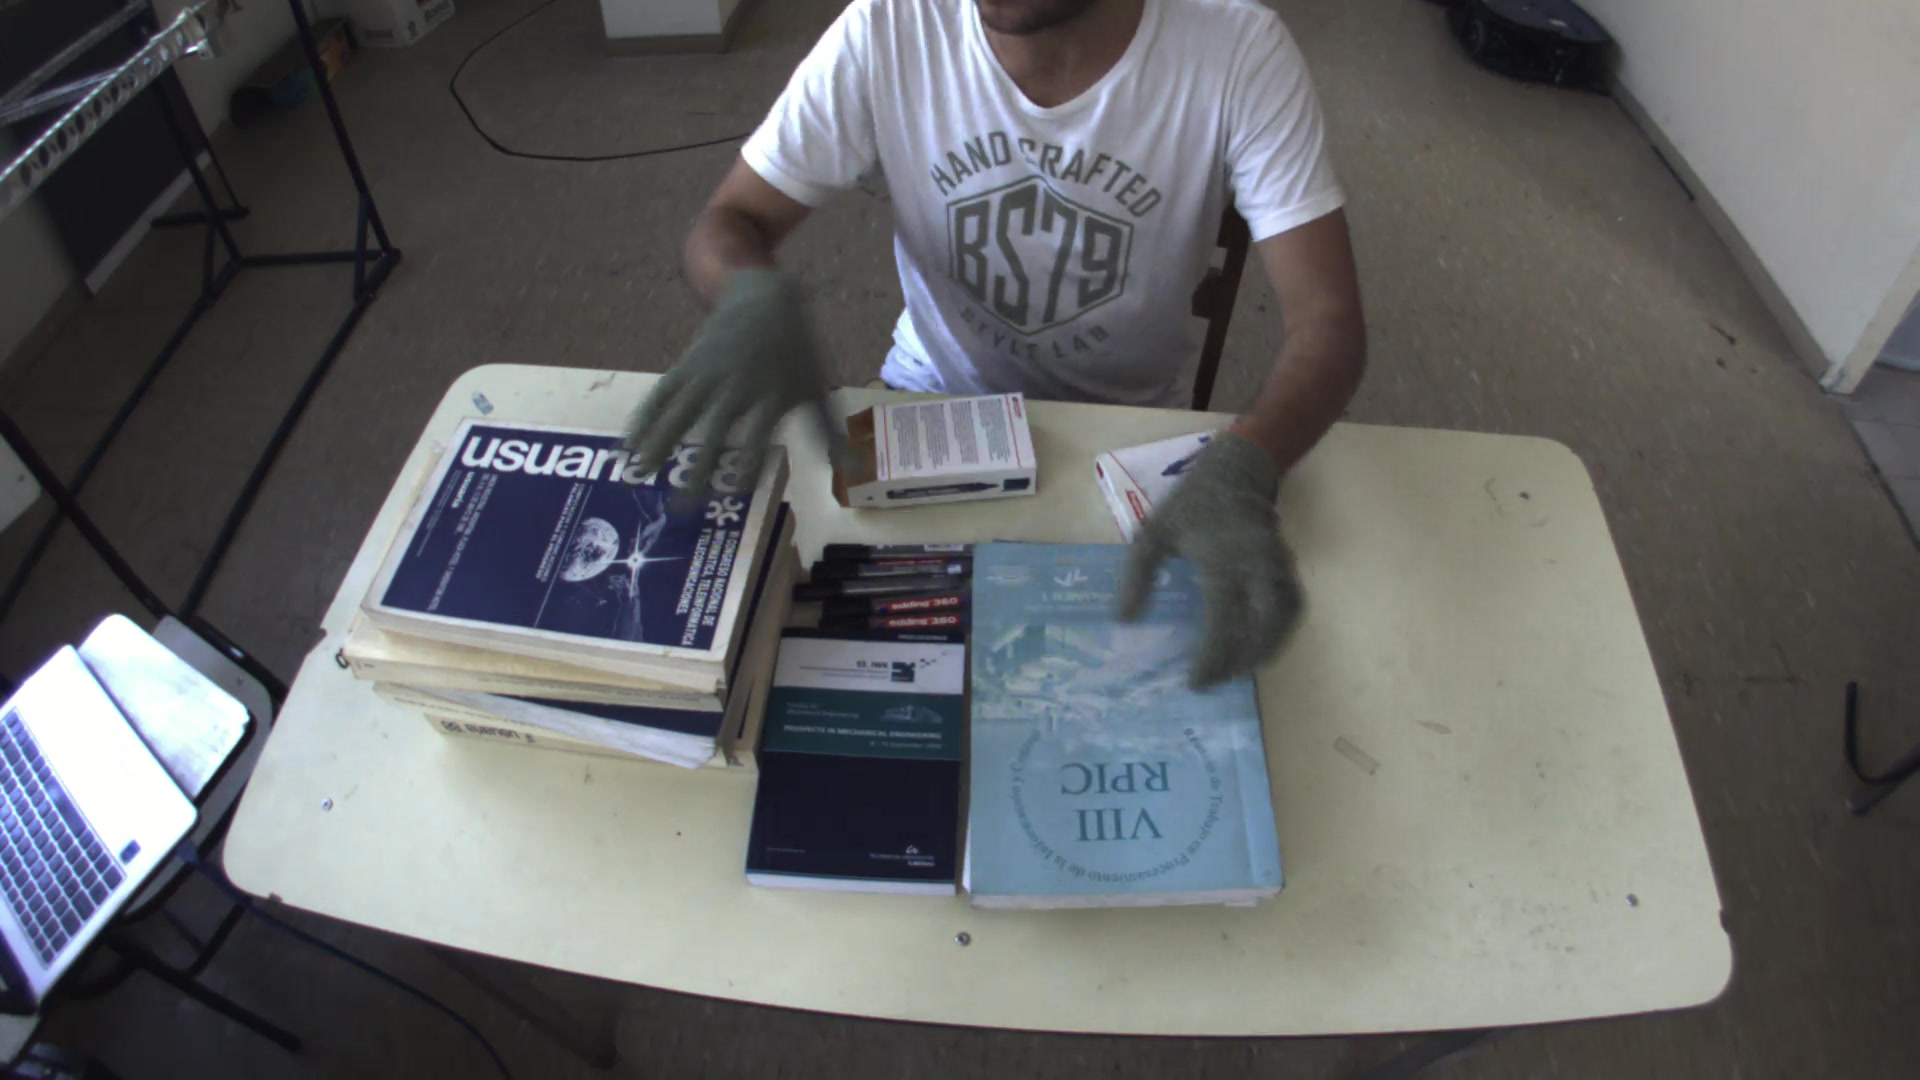hand: (607, 261, 833, 518), (1112, 419, 1325, 688)
